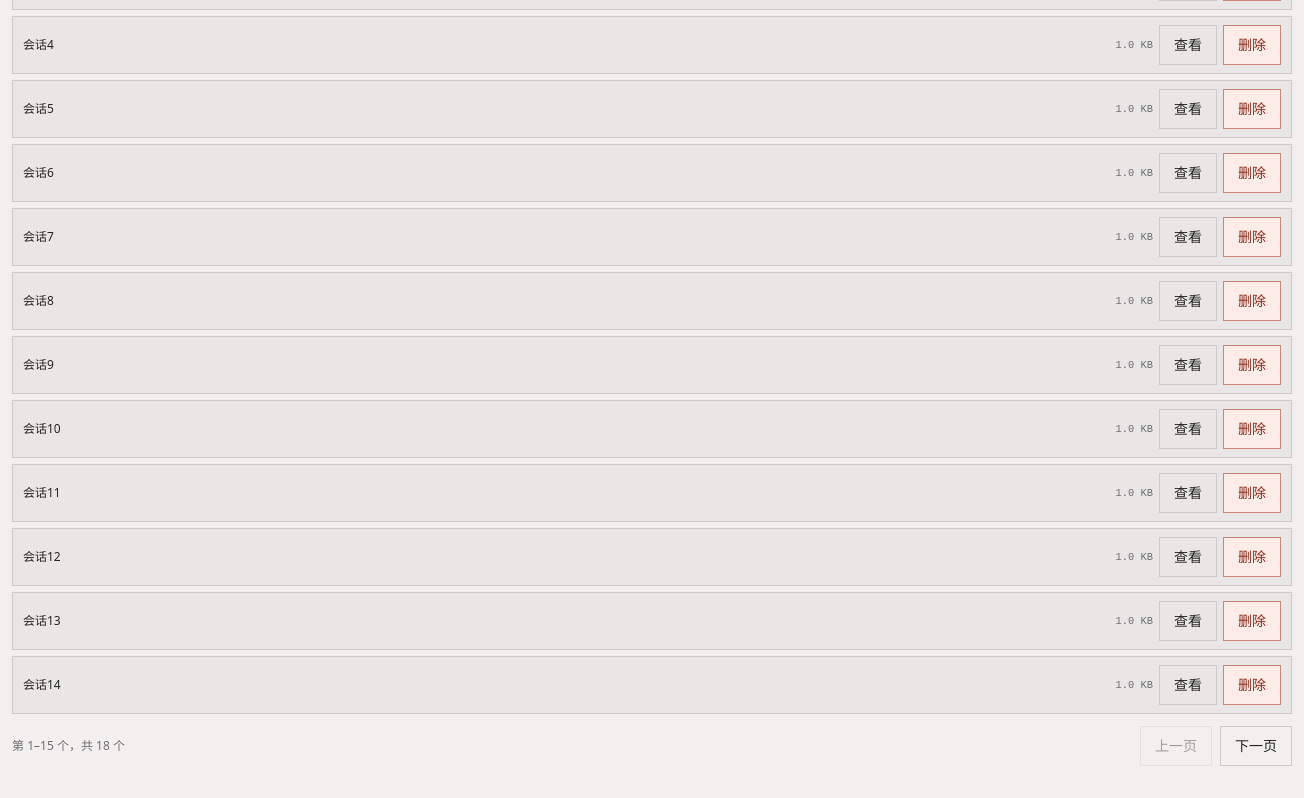
Test: 会话上下文 › 换过号时两段标题各自跟着自己那批走
The image size is (1304, 798).
(page scrolled)
Expected: the text "其它账号" is not shown
Click the button "下一页" at (1256, 746), box [1220,726,1292,766]
(page scrolled)
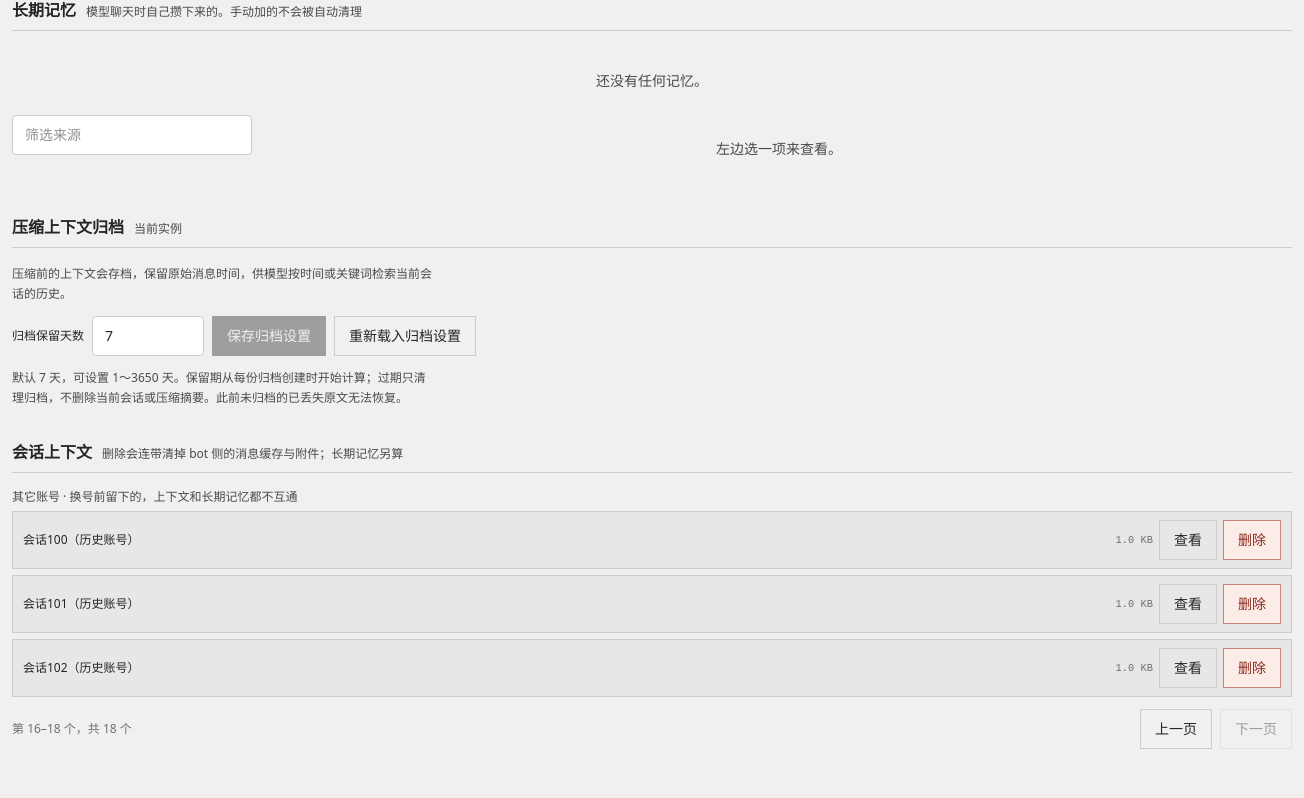
Result: the text "会话100（历史账号）" is shown at [23,531,140,548]
Result: the text "其它账号 · 换号前留下的，上下文和长期记忆都不互通" is shown at [12,488,298,505]
